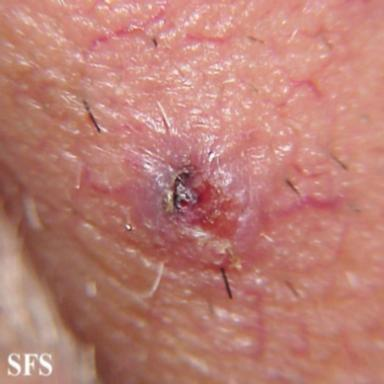basal-cell-carcinoma: (115, 130, 261, 268)
